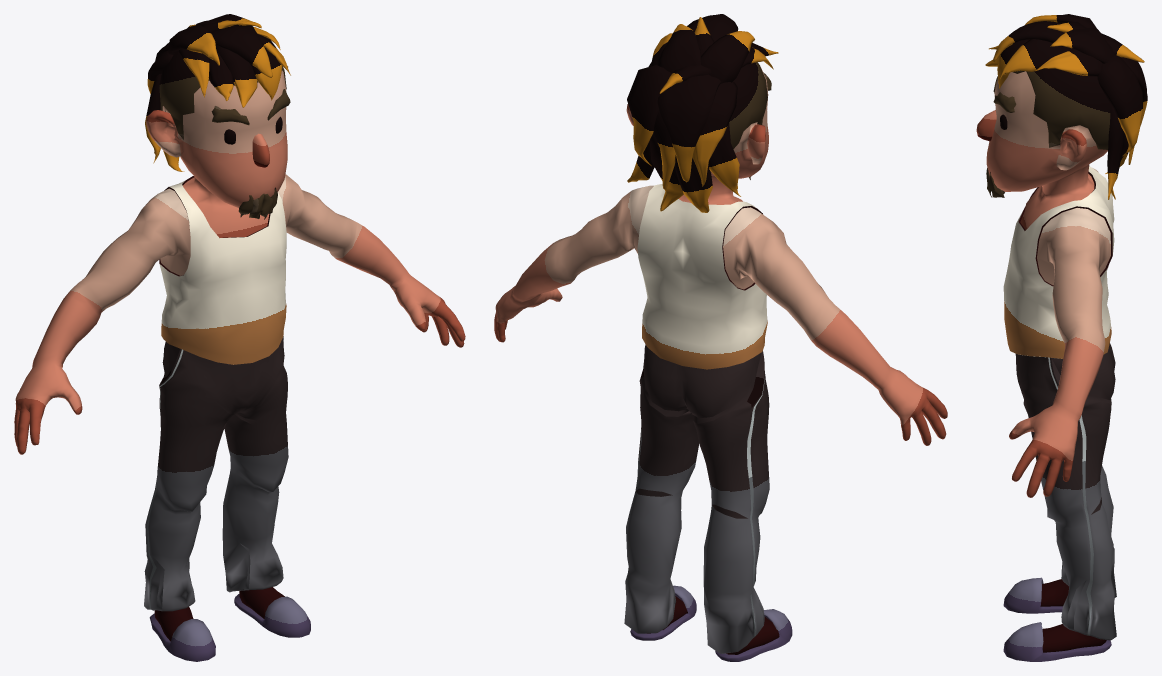
The model's file is Boyfriend.fbx.
3 renders of one model, left to right at view 1: azimuth 30°, elevation 25°; view 2: azimuth 150°, elevation 25°; view 3: azimuth 270°, elevation 25°, orthographic.
Parts seen in each view (by area): view 1: BoyFriendOBJ; view 2: BoyFriendOBJ; view 3: BoyFriendOBJ.
Boxes of the visible parts, x1,y1,x2,y2 form: BoyFriendOBJ: [14, 14, 465, 661]; BoyFriendOBJ: [494, 14, 947, 661]; BoyFriendOBJ: [976, 14, 1147, 661].
Size of the model in its own units: 137 by 180 by 45.71.
